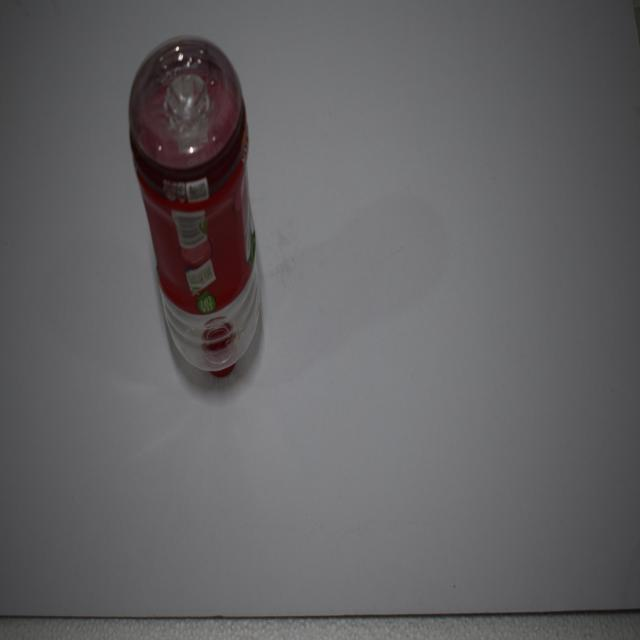bottle: (124, 25, 265, 388)
